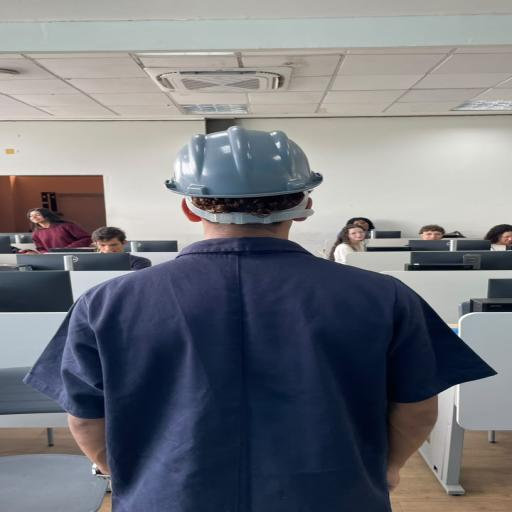CAPACETE: (165, 126, 324, 198)
